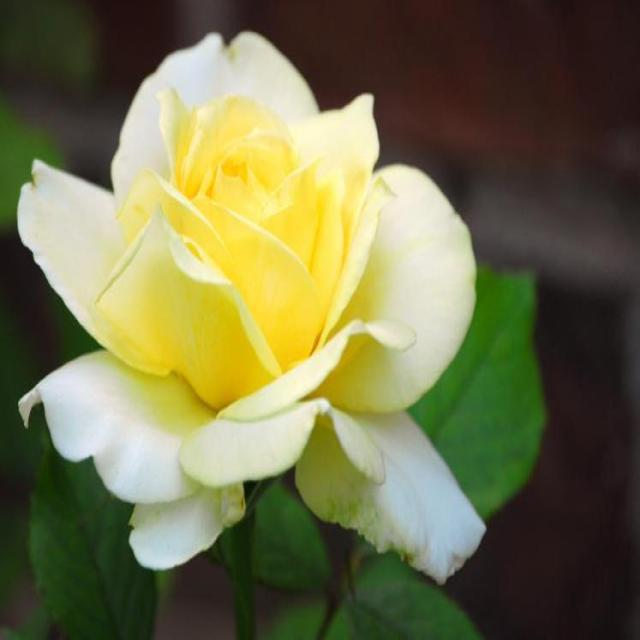rose: (8, 25, 500, 582)
